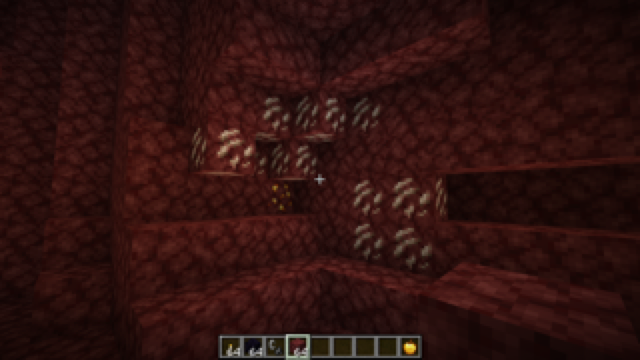nethergold: (267, 181, 297, 217)
quartz: (188, 91, 385, 182), (350, 178, 448, 274)
